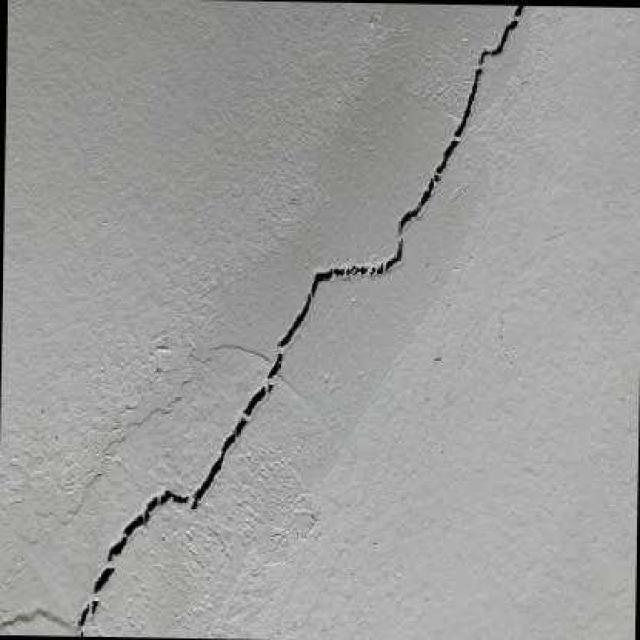D00: (452, 3, 523, 136), (105, 489, 186, 561), (188, 416, 244, 508), (396, 176, 432, 233), (274, 290, 308, 344), (309, 265, 342, 297), (434, 136, 456, 172), (240, 383, 264, 414), (383, 237, 401, 269), (91, 566, 112, 591), (264, 351, 280, 376), (75, 603, 86, 636), (344, 263, 366, 273), (374, 260, 381, 272), (90, 598, 95, 612), (265, 382, 271, 391), (367, 265, 373, 273), (433, 172, 437, 180)
